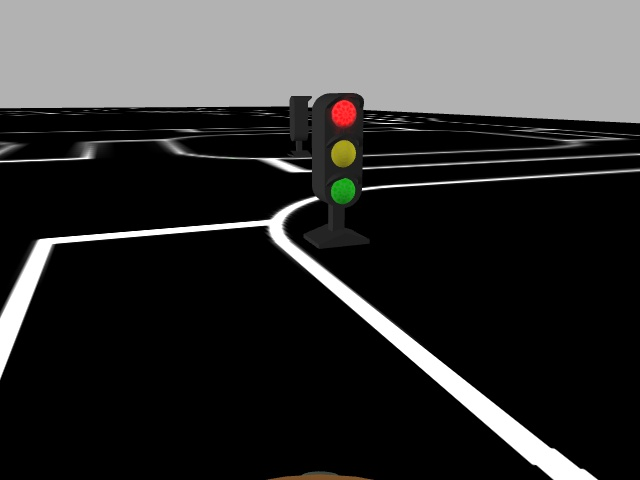red_light: (318, 91, 370, 210)
